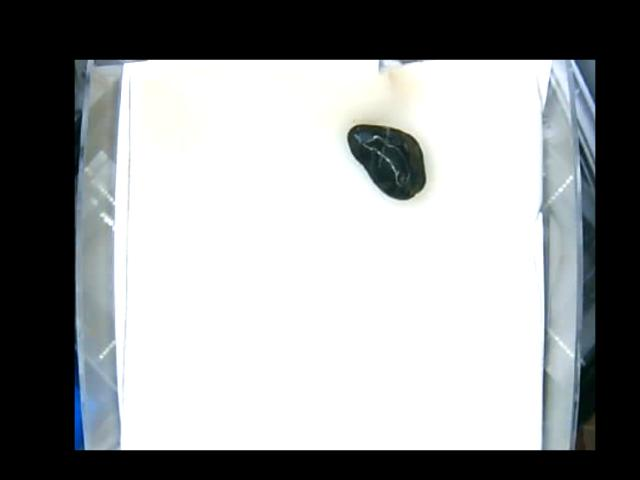Pebble: (347, 122, 428, 202)
